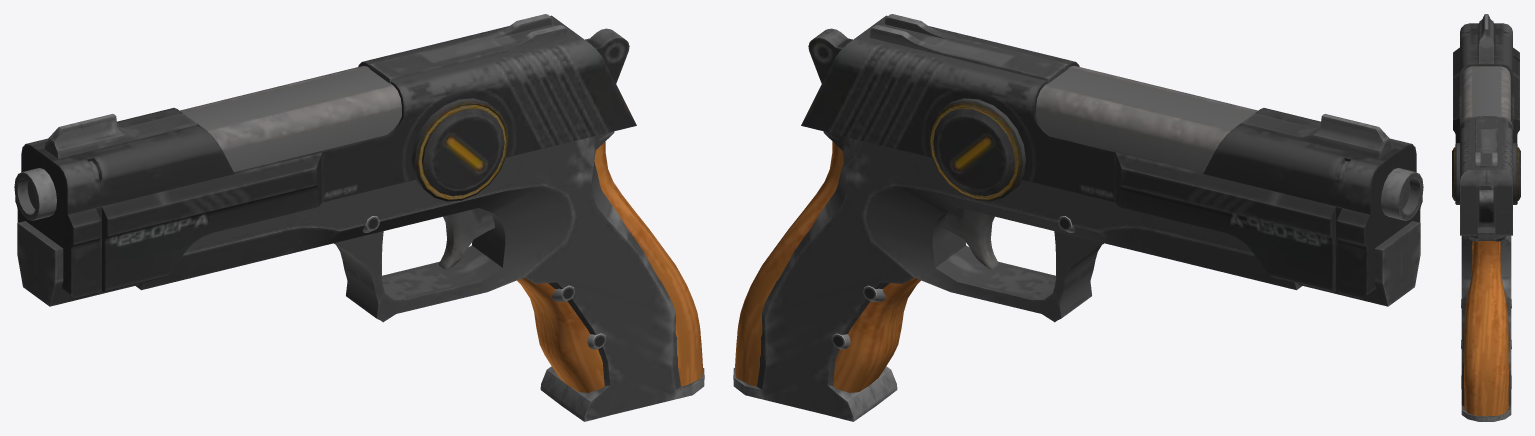
File: Gun_Pistol.glb
The picture shows the model from 3 angles, left to right: view 1: azimuth 30°, elevation 25°; view 2: azimuth 150°, elevation 25°; view 3: azimuth 270°, elevation 25°; orthographic projection. The views are drawn at different scales.
Visible parts, largest first — view 1: Gun_Pistol; view 2: Gun_Pistol; view 3: Gun_Pistol.
Boxes of the visible parts, x1,y1,x2,y2 form: Gun_Pistol: (14,14,704,421); Gun_Pistol: (733,14,1423,421); Gun_Pistol: (1452,14,1520,421).
Bounding box in the file's own units: 0.4425 × 0.2524 × 0.0684.
Materials: 1 (1 with a texture image).
